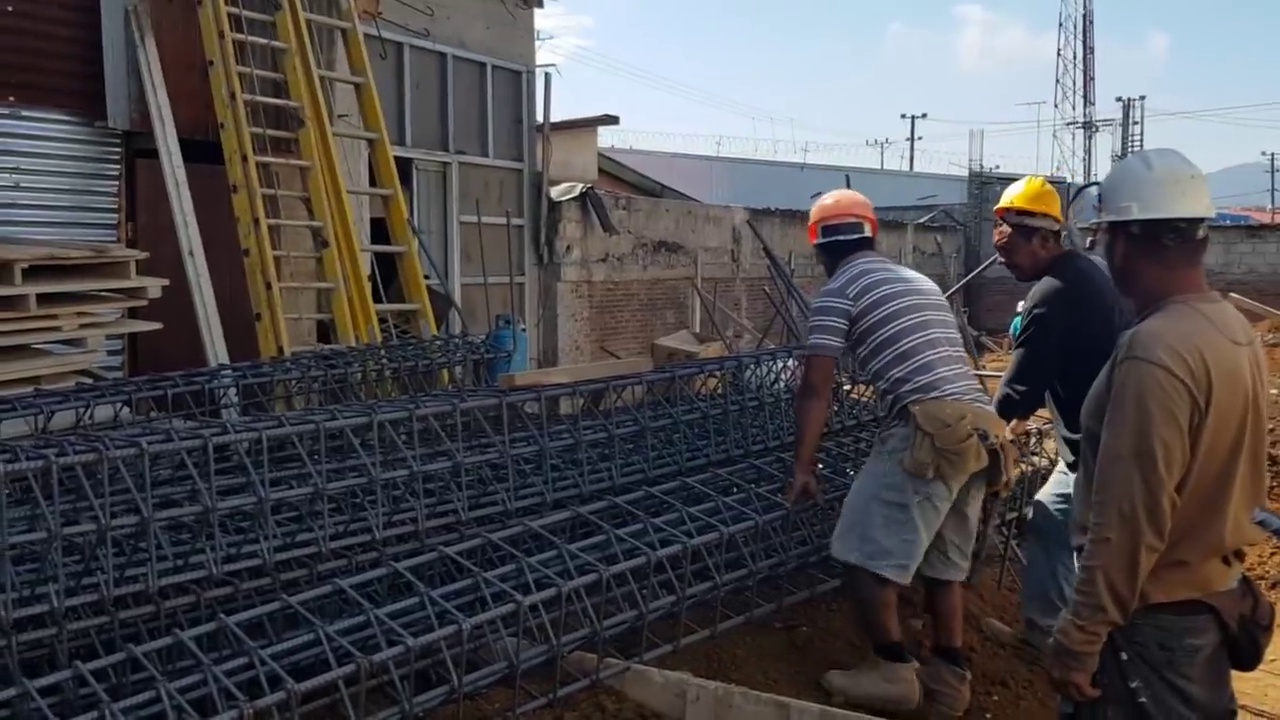helmet: (1077, 146, 1218, 227), (991, 173, 1069, 228), (804, 188, 884, 238), (1015, 301, 1024, 312)
helmet-on: (1076, 141, 1219, 314), (991, 171, 1068, 288), (805, 188, 884, 284), (1015, 301, 1025, 317)
person: (1045, 146, 1273, 717), (781, 190, 994, 716), (990, 173, 1120, 665), (1009, 300, 1025, 345)
